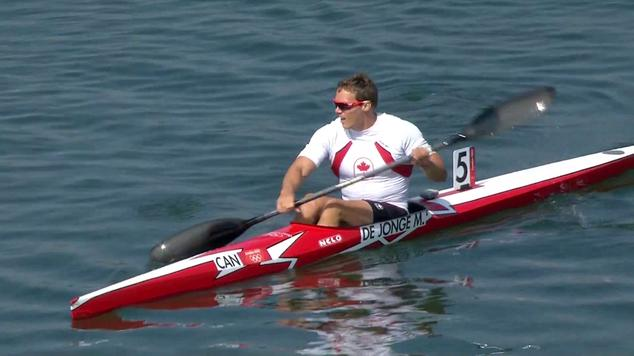down: (133, 202, 268, 259), (407, 285, 453, 311), (405, 278, 455, 300), (380, 277, 430, 299), (353, 321, 400, 343)
